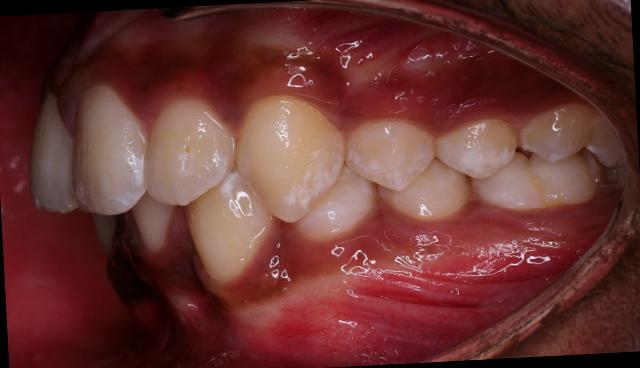canine class I: (182, 89, 385, 290)
molar class III 1/4: (465, 92, 629, 217)
